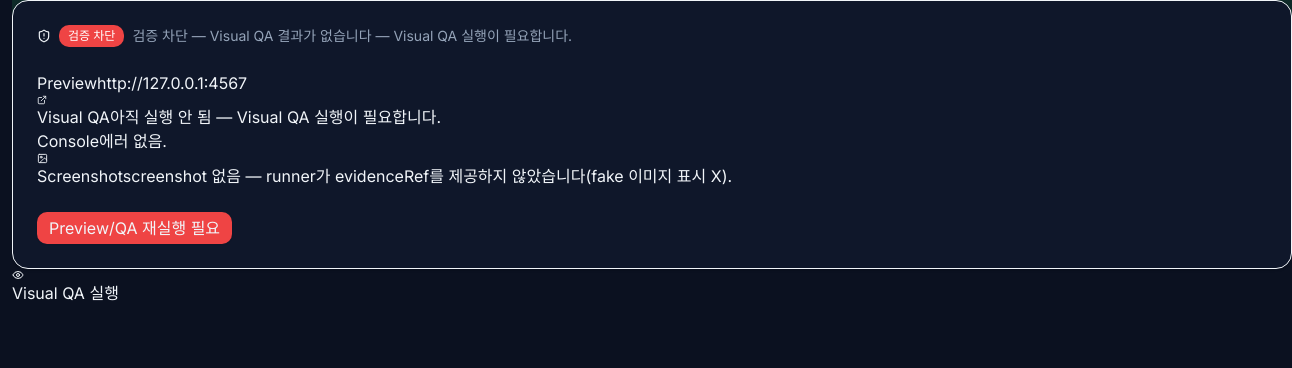
Test: VisualQaCard — vertical slice › (#vertical evidence) screenshot evidenceRef 있는 report → Evidence Card에 참조 표시(fake 이미지 X)
Click the button with test id "visual-qa-run-mev_snap" at [65, 287], box [12, 269, 119, 305]
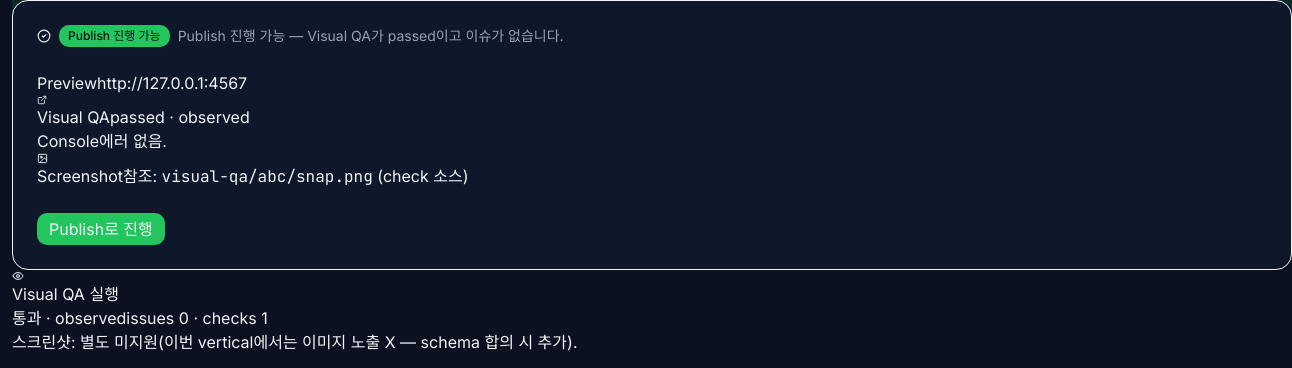
Result: the text "통과 · observed" is shown at [12, 308, 126, 328]
Result: the element with test id "visual-evidence-screenshot-mev_snap" shows "visual-qa/abc/snap.png" at [162, 166, 373, 187]
